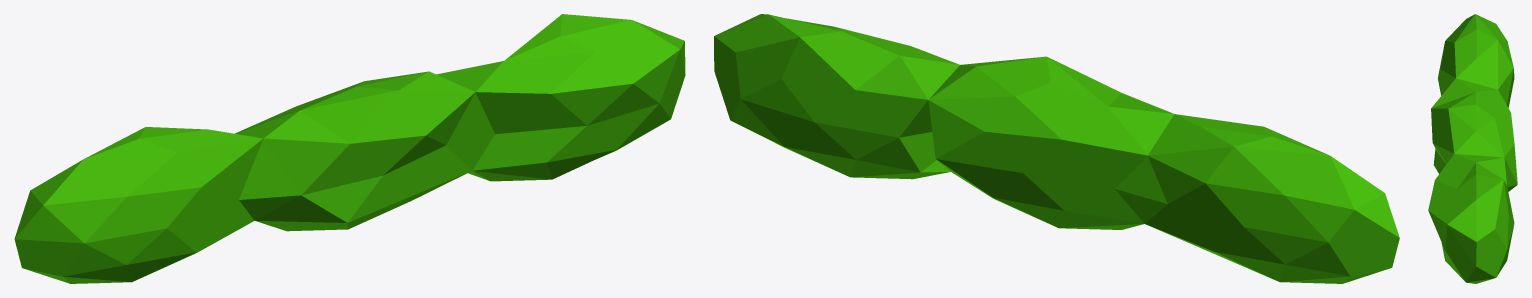
The model's file is hedge.fbx.
The picture shows the model from 3 angles, left to right: view 1: azimuth 30°, elevation 25°; view 2: azimuth 150°, elevation 25°; view 3: azimuth 270°, elevation 25°; orthographic projection. The views are drawn at different scales.
Visible parts, largest first — view 1: Hedge; view 2: Hedge; view 3: Hedge.
Part boxes in pixels (<box>): Hedge: <box>14,14,685,283</box>; Hedge: <box>714,14,1399,283</box>; Hedge: <box>1428,14,1517,283</box>.
Size of the model in its own units: 1020 by 208 by 167.
